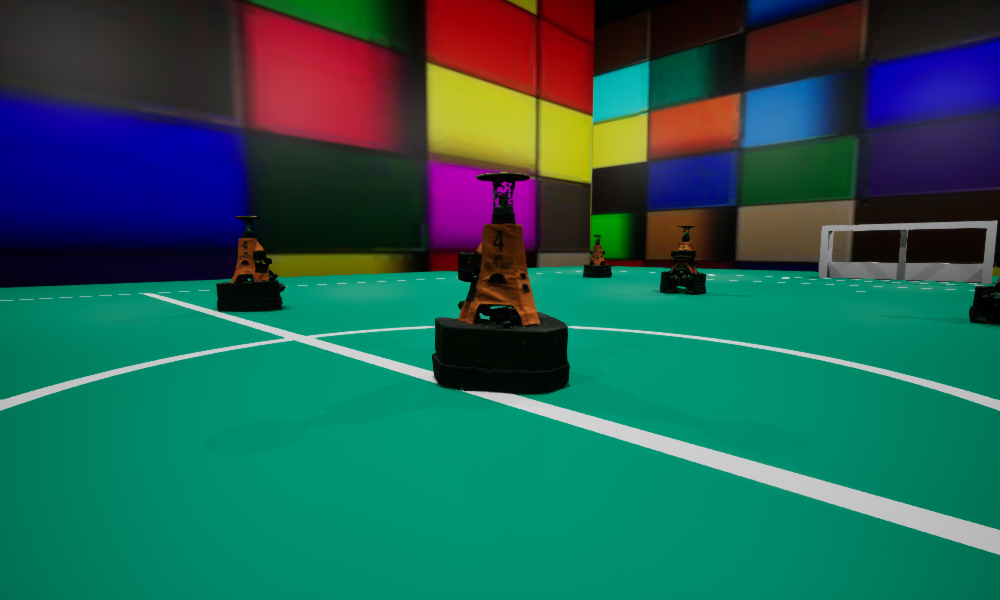o: (432, 172, 569, 394), (216, 216, 285, 311), (660, 226, 705, 293), (969, 251, 999, 323), (583, 235, 611, 277)
